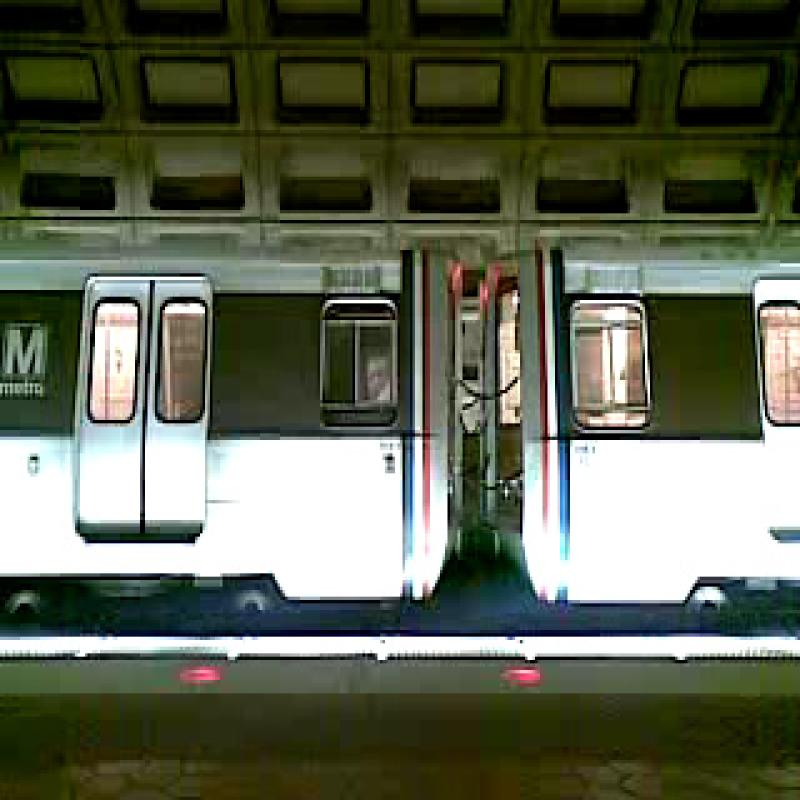train: (1, 238, 799, 634)
